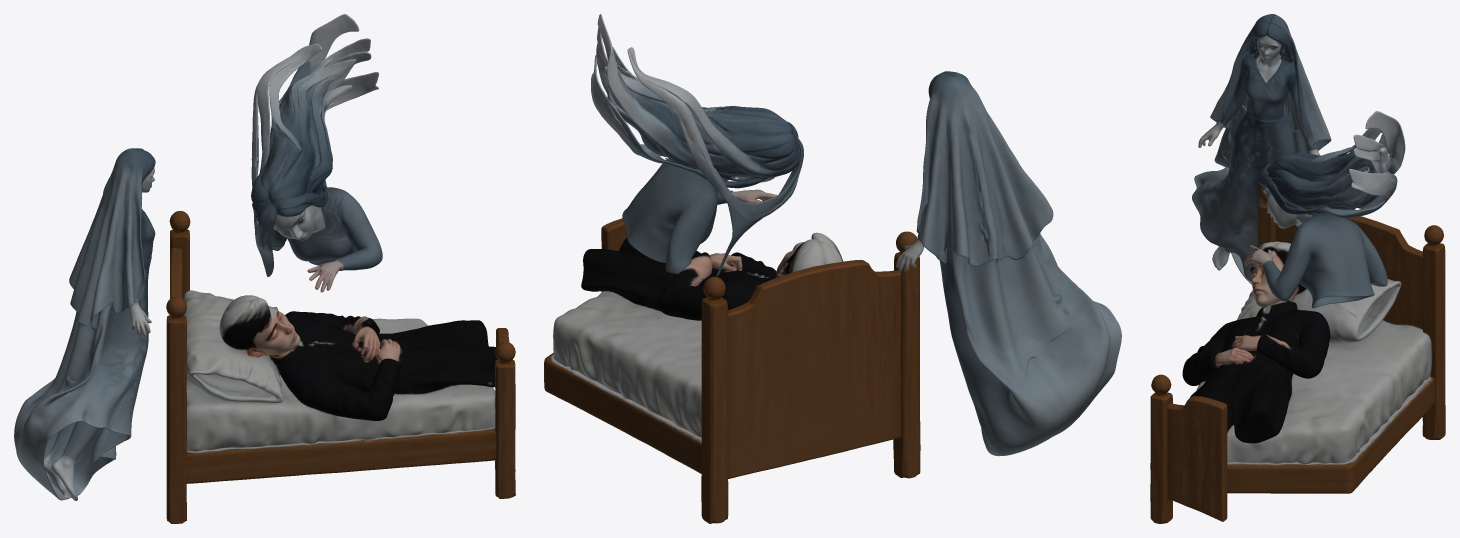
File: 42-la-bruja-enamorada-del-cura-optimized.glb
The picture shows the model from 3 angles, left to right: view 1: azimuth 30°, elevation 25°; view 2: azimuth 150°, elevation 25°; view 3: azimuth 270°, elevation 25°; orthographic projection. The views are drawn at different scales.
Visible parts, largest first — view 1: tripo_node_0aafd397-cd09-4890-9dde-ac16faa2a546; view 2: tripo_node_0aafd397-cd09-4890-9dde-ac16faa2a546; view 3: tripo_node_0aafd397-cd09-4890-9dde-ac16faa2a546.
Part boxes in pixels (left/top/right/bottom): tripo_node_0aafd397-cd09-4890-9dde-ac16faa2a546: left=14, top=14, right=515, bottom=523; tripo_node_0aafd397-cd09-4890-9dde-ac16faa2a546: left=544, top=14, right=1121, bottom=523; tripo_node_0aafd397-cd09-4890-9dde-ac16faa2a546: left=1150, top=14, right=1445, bottom=523.
Bounding box in the file's own units: 1 × 0.8246 × 0.5686.
Materials: 1 (1 with a texture image).
